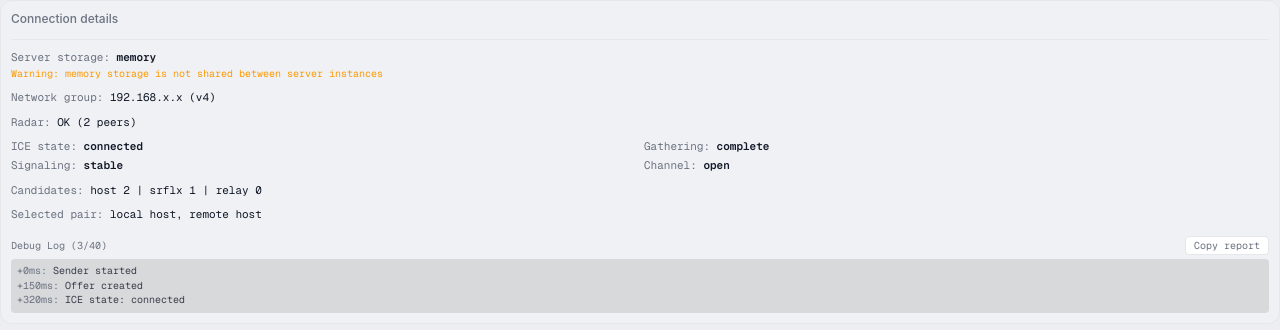
ConnectionDiagnostics Component › calls navigator.clipboard.writeText with text containing 'ICE state' when Copy report clicked
Click the button "Copy report": point(1227, 246) [1185,236,1269,255]
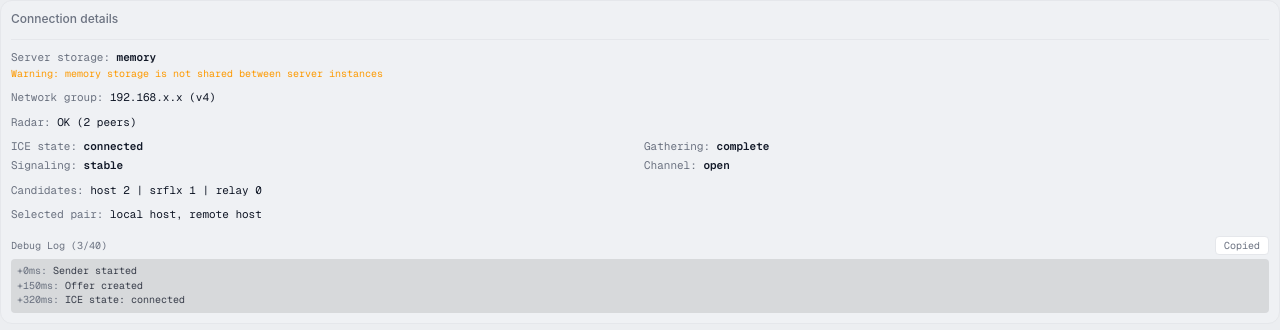
Now the button "Copied" is shown, box [1215,236,1269,255]
